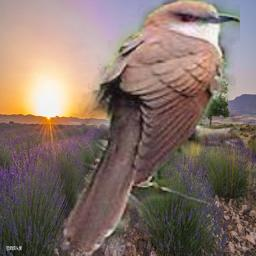Cuckoo: (61, 0, 240, 256)
